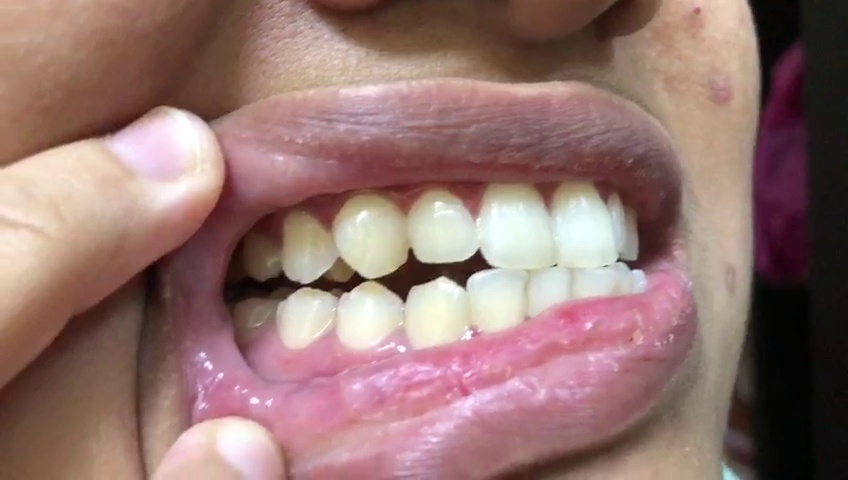1st Molar: (234, 294, 276, 346)
1st Premolar: (337, 279, 406, 351), (279, 212, 338, 282)
2nd Premolar: (276, 288, 337, 351), (242, 229, 278, 282)
Canine: (333, 194, 407, 279), (405, 278, 468, 349)
Central Incisor: (476, 178, 556, 270), (550, 180, 618, 266)
Lateral Incisor: (411, 188, 479, 264), (467, 266, 530, 334)
